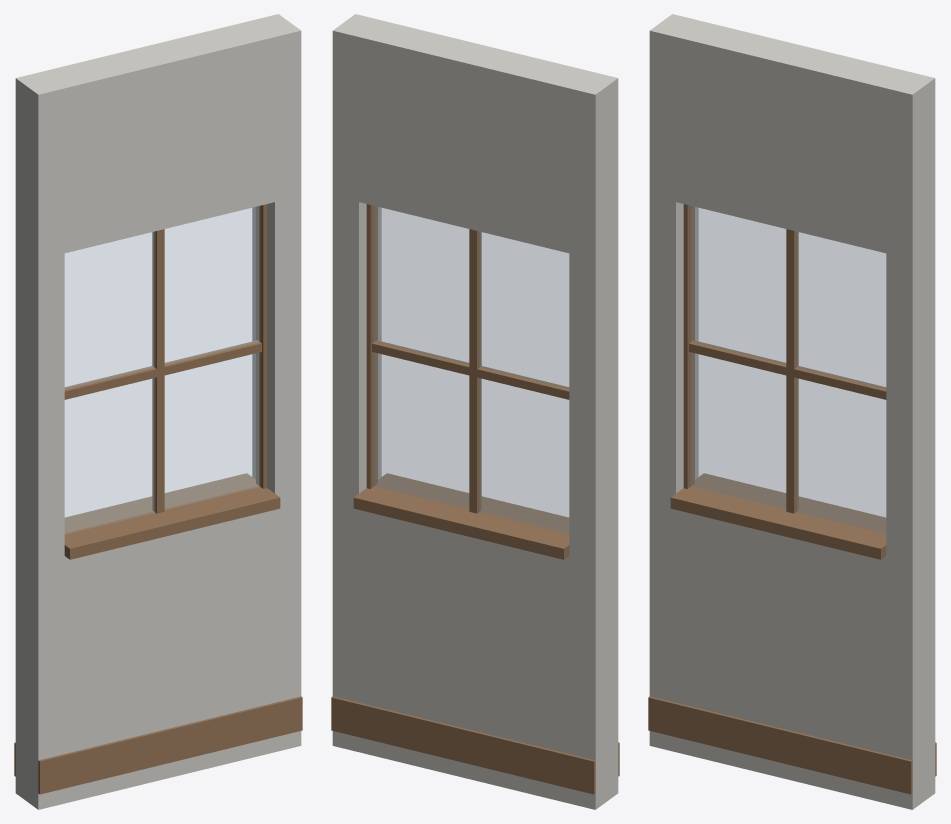
File: window.glb
3 renders of one model, left to right at view 1: azimuth 30°, elevation 25°; view 2: azimuth 150°, elevation 25°; view 3: azimuth 330°, elevation 25°, orthographic.
Parts seen in each view (by area): view 1: window; view 2: window; view 3: window.
Part boxes in pixels (x1,y1,x2,y2): window: (14,14,302,809); window: (331,14,619,809); window: (648,14,936,809).
Bounding box in the file's own units: 1 × 2.6 × 0.22.
